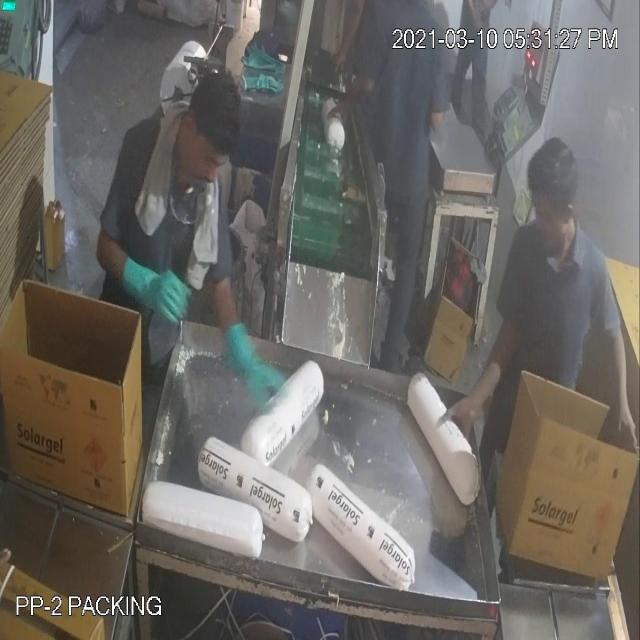gloves: (218, 302, 291, 452), (118, 250, 194, 341)
no-gloves: (440, 272, 521, 463), (598, 316, 640, 474), (324, 73, 384, 137)
